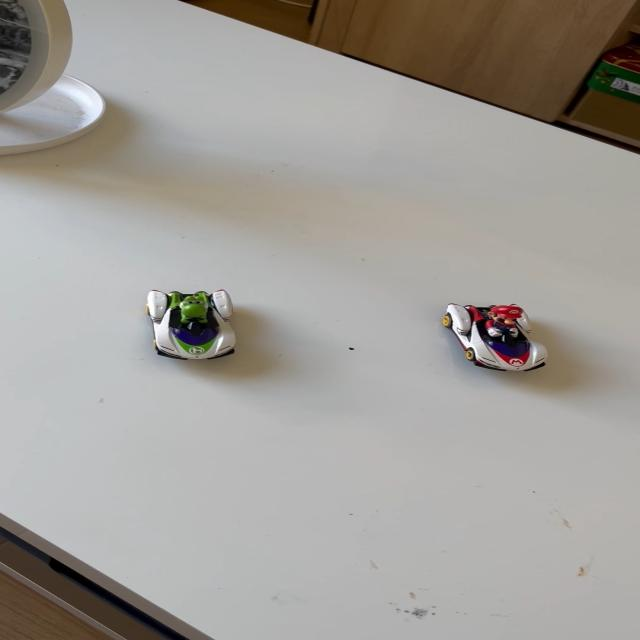mario: (426, 291, 574, 382)
yoshi: (138, 282, 249, 371)
